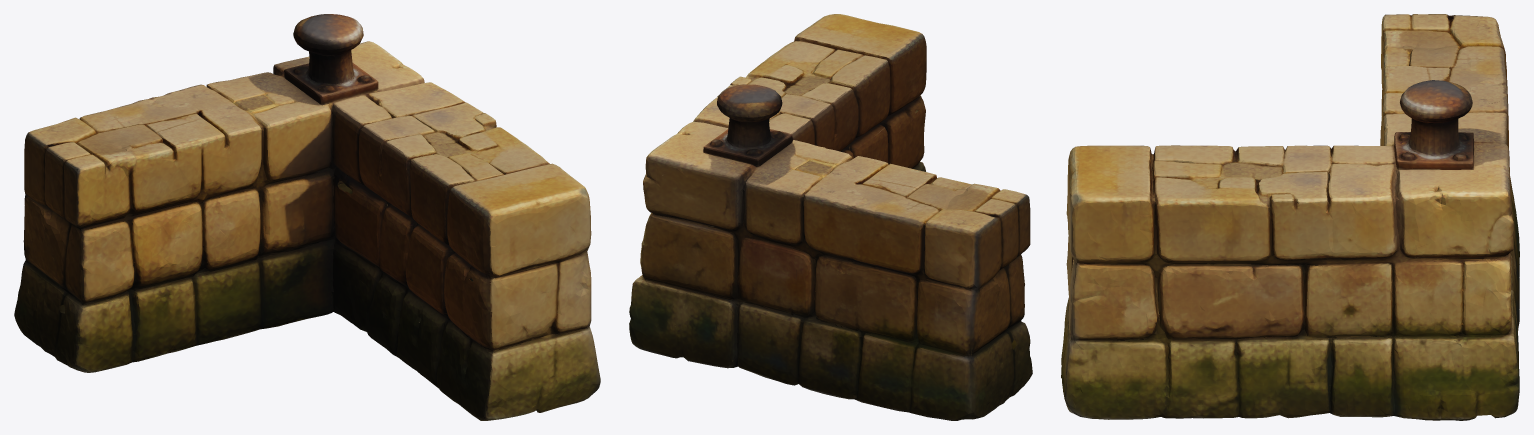
Rendered from hb_quay_corner.glb.
3 views of the same model, side by side, from view 1: azimuth 30°, elevation 25°; view 2: azimuth 150°, elevation 25°; view 3: azimuth 270°, elevation 25° (orthographic). The views are drawn at different scales.
Visible parts, largest first — view 1: world; view 2: world; view 3: world.
Boxes of the visible parts, bbox=[...] form: world: bbox=[14, 14, 600, 420]; world: bbox=[629, 14, 1032, 420]; world: bbox=[1061, 14, 1519, 420].
Size of the model in its own units: 0.9925 by 0.6783 by 0.9966.
Materials: 1 (1 with a texture image).
